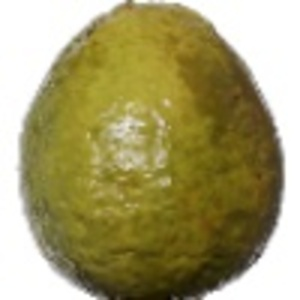goiaba: (15, 2, 287, 295)
